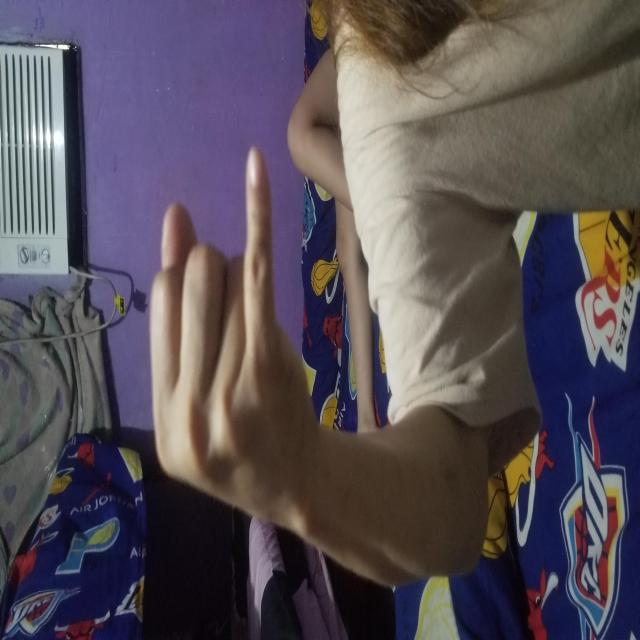J: (120, 150, 493, 312)
